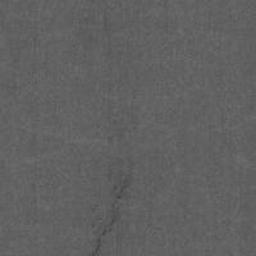Inclusion: (90, 178, 128, 256)
